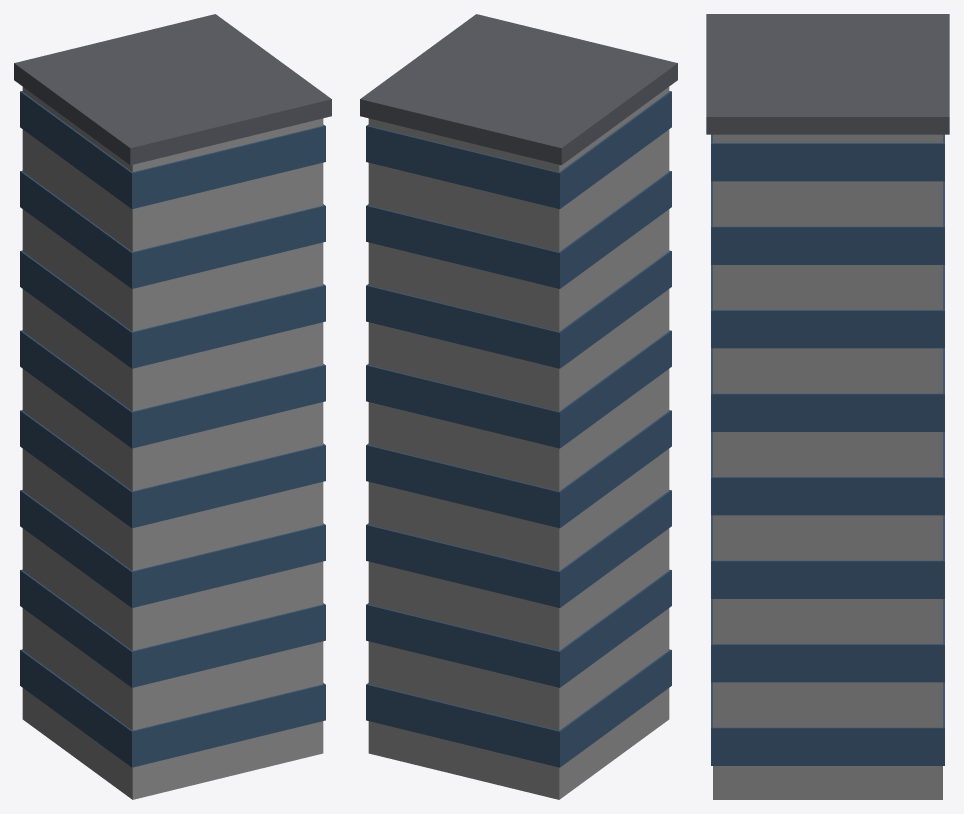
The model's file is office_1990.glb.
The picture shows the model from 3 angles, left to right: view 1: azimuth 30°, elevation 25°; view 2: azimuth 150°, elevation 25°; view 3: azimuth 270°, elevation 25°; orthographic projection. The views are drawn at different scales.
Parts seen in each view (by area): view 1: Body, Roof, Body_win_f1, Body_win_f4, Body_win_f5, Body_win_f7, Body_win_f3, Body_win_f6, Body_win_f0, Body_win_f2; view 2: Body, Roof, Body_win_f1, Body_win_f4, Body_win_f5, Body_win_f7, Body_win_f3, Body_win_f6, Body_win_f0, Body_win_f2; view 3: Body, Roof, Body_win_f0, Body_win_f1, Body_win_f2, Body_win_f3, Body_win_f4, Body_win_f5, Body_win_f6, Body_win_f7.
Boxes of the visible parts, x1,y1,x2,y2 form: Body: (22, 87, 323, 799); Roof: (14, 14, 331, 165); Body_win_f1: (20, 569, 325, 687); Body_win_f4: (20, 330, 325, 448); Body_win_f5: (20, 250, 325, 368); Body_win_f7: (20, 91, 325, 209); Body_win_f3: (20, 410, 325, 528); Body_win_f6: (20, 170, 325, 288); Body_win_f0: (20, 649, 325, 767); Body_win_f2: (20, 490, 325, 607); Body: (368, 87, 669, 799); Roof: (360, 14, 677, 165); Body_win_f1: (366, 569, 671, 687); Body_win_f4: (366, 330, 671, 448); Body_win_f5: (366, 250, 671, 368); Body_win_f7: (366, 91, 671, 209); Body_win_f3: (366, 410, 671, 528); Body_win_f6: (366, 170, 671, 288); Body_win_f0: (366, 649, 671, 767); Body_win_f2: (366, 490, 671, 607); Body: (713, 134, 942, 799); Roof: (706, 14, 949, 134); Body_win_f0: (711, 682, 944, 765); Body_win_f1: (711, 599, 944, 682); Body_win_f2: (711, 515, 944, 598); Body_win_f3: (711, 432, 944, 515); Body_win_f4: (711, 348, 944, 431); Body_win_f5: (711, 265, 944, 348); Body_win_f6: (711, 181, 944, 264); Body_win_f7: (711, 134, 944, 181).
Size of the model in its own units: 0.74 by 2.3 by 0.74.
